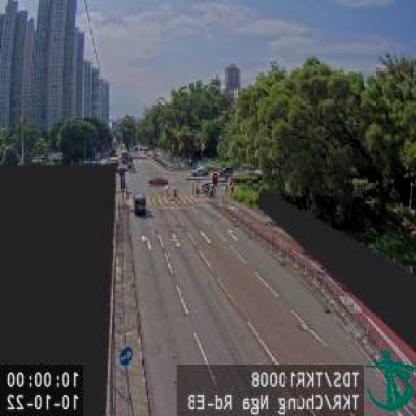Truck: (133, 193, 147, 218)
